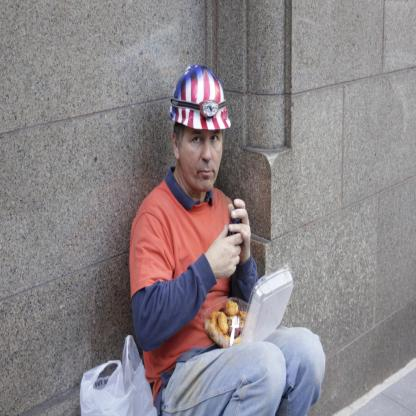Helmet: (169, 67, 233, 157)
